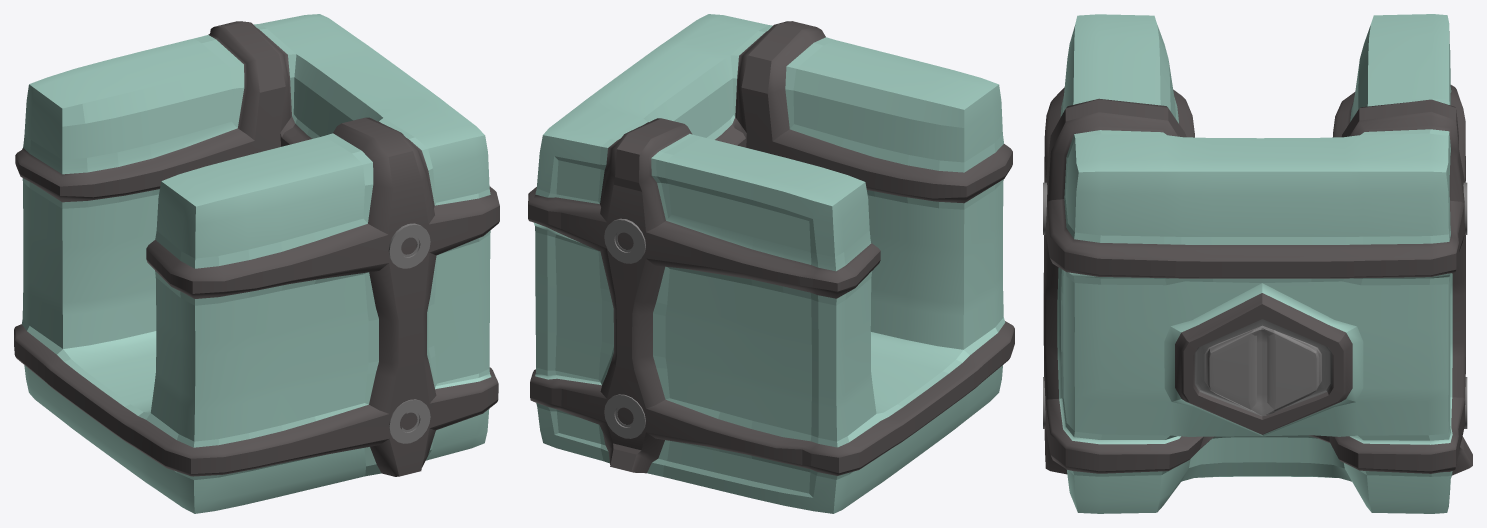
The model's file is caja_azul.fbx.
The picture shows the model from 3 angles, left to right: view 1: azimuth 30°, elevation 25°; view 2: azimuth 150°, elevation 25°; view 3: azimuth 270°, elevation 25°; orthographic projection. The views are drawn at different scales.
Visible parts, largest first — view 1: persp2; view 2: persp2; view 3: persp2.
Part boxes in pixels (x1,y1,x2,y2): persp2: [14, 14, 499, 513]; persp2: [528, 14, 1014, 513]; persp2: [1043, 14, 1472, 513].
Size of the model in its own units: 2.07 by 1.92 by 2.03.
